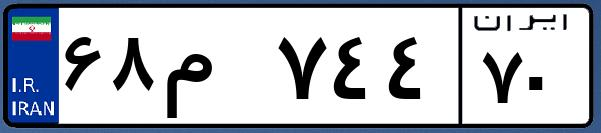0: (525, 38, 570, 115)
4: (385, 28, 445, 110), (330, 28, 385, 110)
6: (57, 26, 110, 100)
7: (270, 28, 330, 110), (475, 38, 525, 113)
8: (110, 28, 158, 98)
م: (158, 20, 270, 120)
